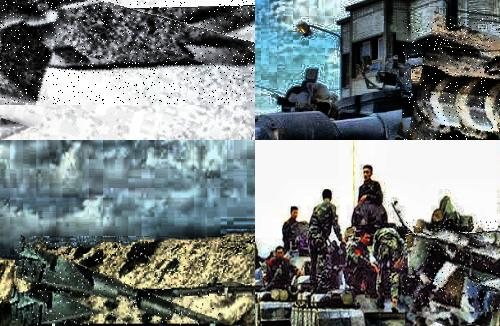tanks: (1, 1, 256, 105), (16, 242, 225, 326), (405, 18, 500, 141), (402, 220, 500, 312), (400, 197, 473, 294), (291, 284, 409, 326), (256, 249, 311, 326)
